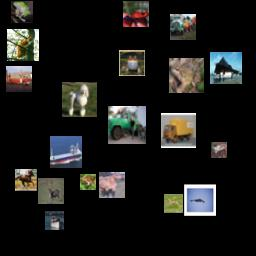airplane: (184, 184, 216, 216), (210, 52, 242, 84)
cat: (7, 29, 39, 61)
deer: (38, 178, 64, 204), (164, 194, 183, 213), (211, 142, 227, 158)
dog: (62, 82, 97, 117)
frog: (169, 58, 204, 93), (119, 50, 145, 76), (123, 1, 149, 27), (11, 1, 33, 23), (80, 174, 96, 190)
ship: (50, 136, 82, 168), (45, 211, 64, 230)
truck: (108, 106, 146, 144), (161, 113, 196, 148), (170, 14, 196, 40), (6, 66, 32, 92)
